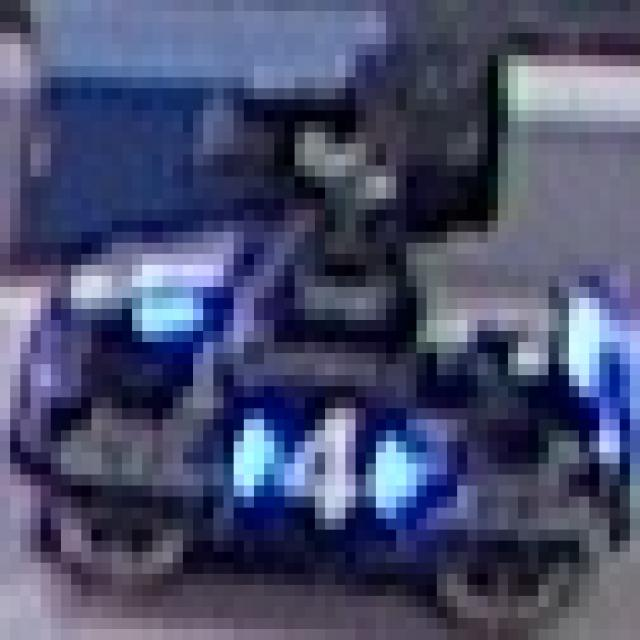B4: (214, 375, 416, 530)
